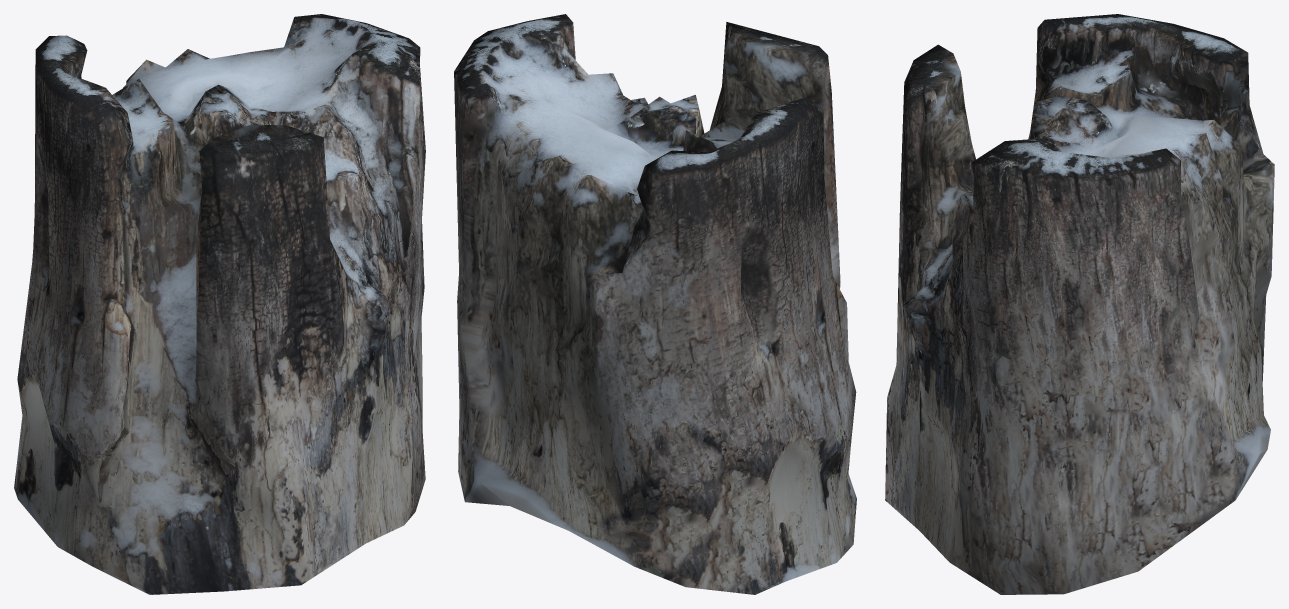
File: Forest_stump_7.FBX
The picture shows the model from 3 angles, left to right: view 1: azimuth 30°, elevation 25°; view 2: azimuth 150°, elevation 25°; view 3: azimuth 270°, elevation 25°; orthographic projection. The views are drawn at different scales.
Parts seen in each view (by area): view 1: Forest_stump_7; view 2: Forest_stump_7; view 3: Forest_stump_7.
Part boxes in pixels (<box>): Forest_stump_7: <box>14,14,425,594</box>; Forest_stump_7: <box>454,14,856,594</box>; Forest_stump_7: <box>885,14,1274,594</box>.
Size of the model in its own units: 0.9743 by 1.18 by 0.9421.
1 material, 1 textured.
